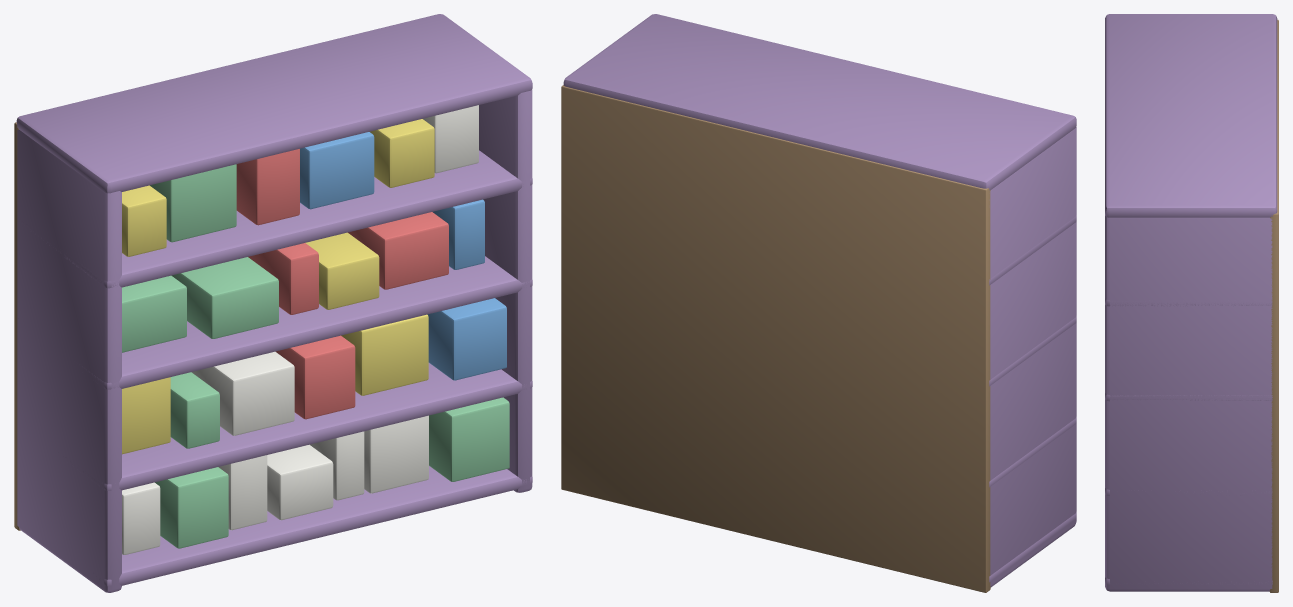
File: prop_shelf.glb
3 views of the same model, side by side, from view 1: azimuth 30°, elevation 25°; view 2: azimuth 150°, elevation 25°; view 3: azimuth 270°, elevation 25° (orthographic). The views are drawn at different scales.
Visible parts, largest first — view 1: shelf; view 2: shelf; view 3: shelf.
Boxes of the visible parts, x1,y1,x2,y2 form: shelf: [14, 14, 532, 592]; shelf: [561, 14, 1076, 592]; shelf: [1105, 14, 1278, 592].
Size of the model in its own units: 75 by 69.25 by 28.25.
